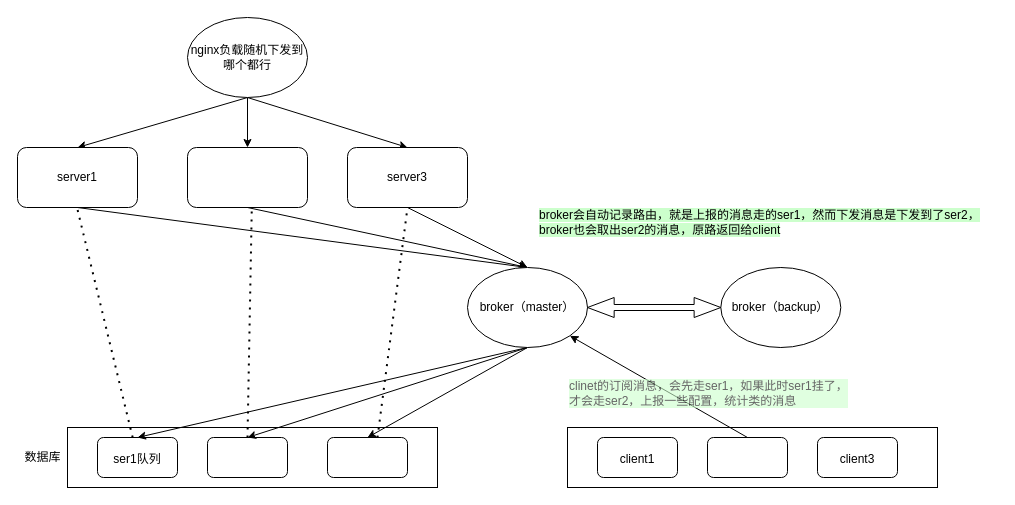
Image size: 1015x505. Some labels were removed from this diagram. The centre of each missing label's shape, as x and y in pixels:
"client2" goes at point 747,457.
"ser2队列" goes at point 247,457.
"ser3队列" goes at point 367,457.
"server2" goes at point 247,177.
